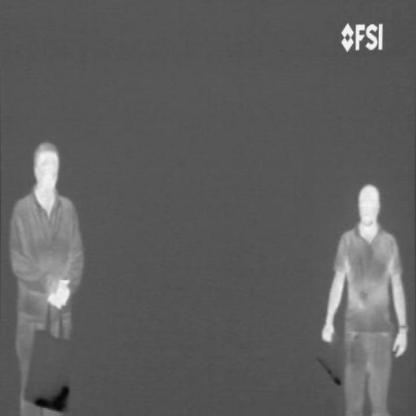weapon: (33, 381, 74, 414)
